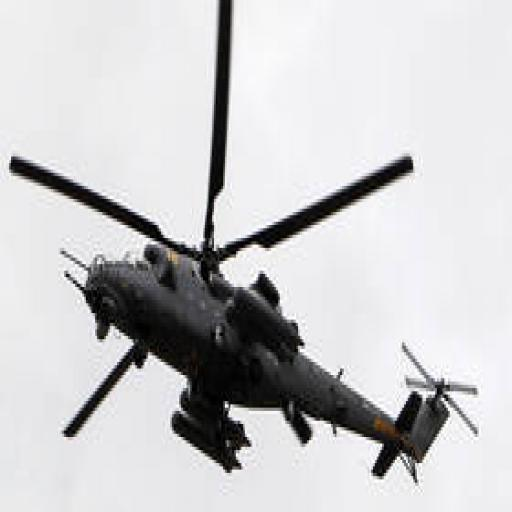helicopter: (3, 5, 482, 494)
